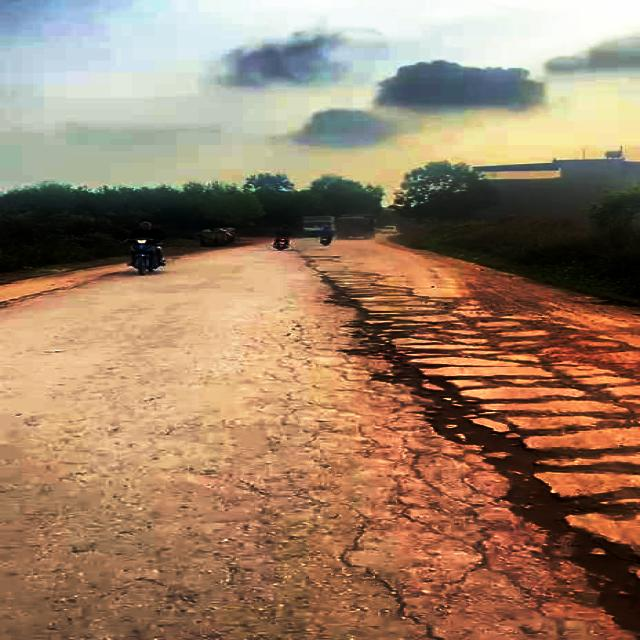pothole: (500, 434, 640, 640), (381, 365, 539, 460), (331, 290, 463, 377)
